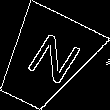N_SW: (12, 28, 79, 91)
